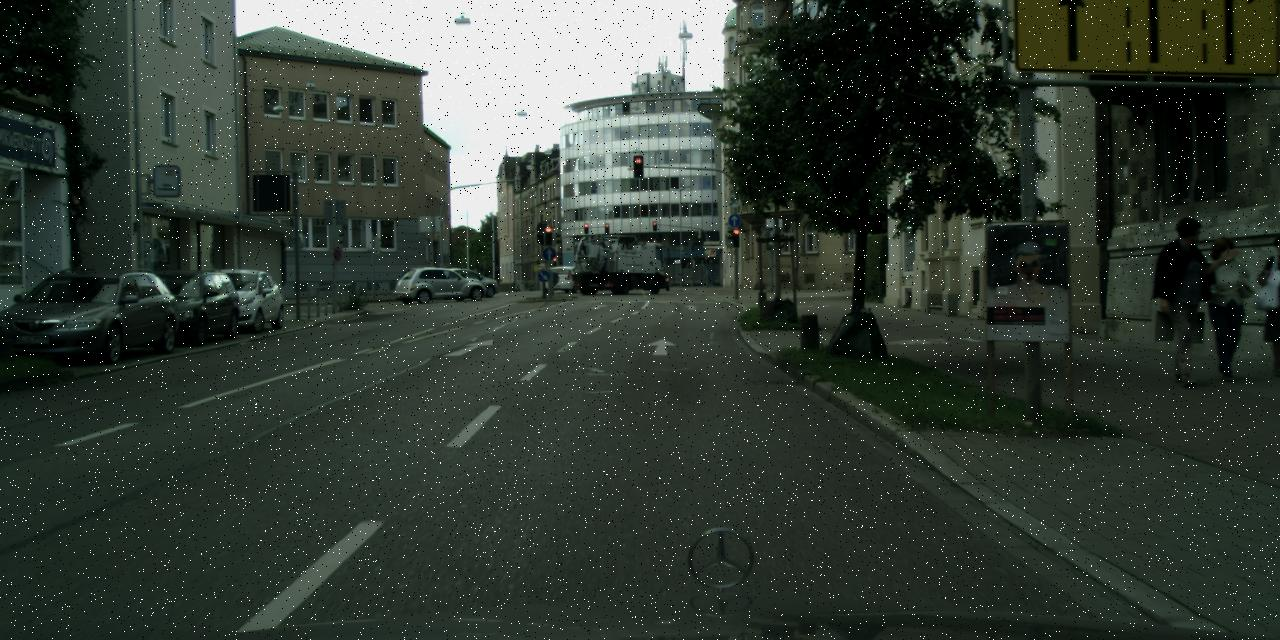ped: (1152, 218, 1220, 383), (1195, 235, 1253, 377), (1250, 234, 1279, 374)
